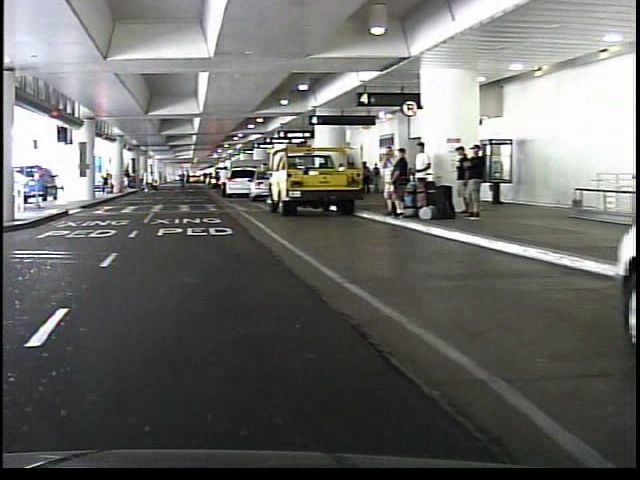person: (375, 143, 394, 215), (463, 144, 480, 220), (133, 163, 149, 197), (213, 166, 224, 200)
